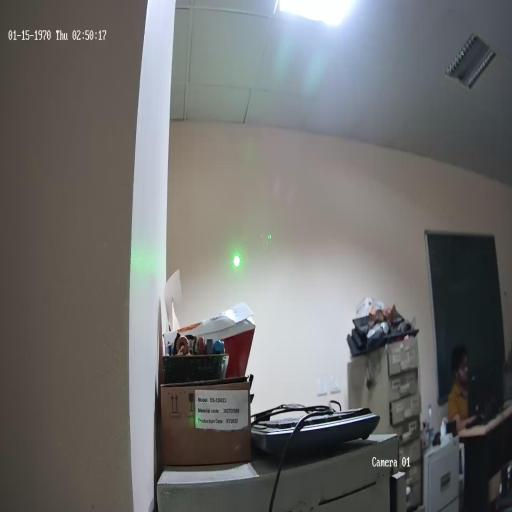laser: (229, 249, 244, 272)
